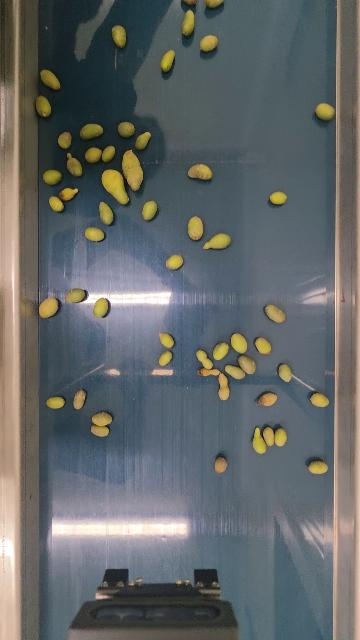Baby Potato: (101, 167, 131, 206), (120, 148, 145, 190), (203, 231, 232, 251), (187, 163, 214, 182), (39, 68, 61, 91), (187, 215, 205, 242), (38, 296, 59, 319), (265, 302, 286, 324), (181, 8, 196, 37), (111, 24, 128, 49), (79, 123, 104, 140), (315, 101, 335, 122), (230, 332, 248, 355), (35, 94, 52, 118), (217, 372, 231, 401), (252, 426, 266, 455), (98, 201, 114, 226), (237, 354, 257, 374), (159, 48, 175, 73), (65, 155, 83, 177), (141, 199, 158, 222), (224, 363, 247, 380), (211, 341, 230, 361), (199, 34, 219, 53), (42, 168, 63, 186), (65, 287, 87, 304), (196, 348, 213, 370), (134, 131, 152, 151), (256, 391, 278, 407), (91, 411, 113, 427), (93, 297, 109, 318), (165, 253, 184, 270), (255, 336, 272, 355), (72, 389, 88, 409), (85, 226, 105, 242), (308, 459, 328, 475), (158, 331, 175, 349), (117, 121, 135, 138), (84, 146, 102, 163), (269, 189, 288, 205), (310, 392, 329, 408), (46, 395, 66, 410), (262, 426, 275, 449), (278, 363, 293, 382), (57, 131, 72, 150), (59, 187, 79, 201), (90, 424, 111, 437), (48, 195, 64, 212), (274, 427, 287, 447), (102, 145, 116, 163), (158, 350, 173, 366), (214, 456, 227, 474), (203, 0, 226, 9), (197, 367, 219, 376), (181, 0, 198, 6)
